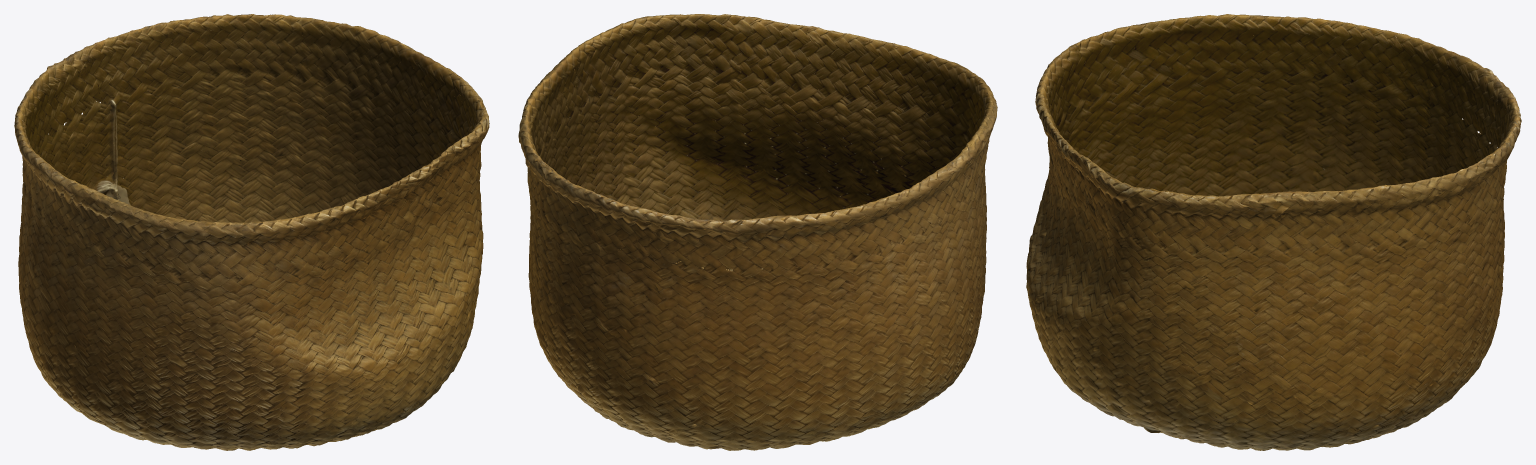
File: obj_basket_dc3d8c.glb
The picture shows the model from 3 angles, left to right: view 1: azimuth 30°, elevation 25°; view 2: azimuth 150°, elevation 25°; view 3: azimuth 270°, elevation 25°; orthographic projection. The views are drawn at different scales.
Visible parts, largest first — view 1: obj_basket_dc3d8c; view 2: obj_basket_dc3d8c; view 3: obj_basket_dc3d8c.
Boxes of the visible parts, x1=… form: obj_basket_dc3d8c: x1=14, y1=14, x2=489, y2=450; obj_basket_dc3d8c: x1=518, y1=14, x2=997, y2=450; obj_basket_dc3d8c: x1=1026, y1=14, x2=1521, y2=450.
Bounding box in the file's own units: 0.3797 × 0.2558 × 0.4001.
Materials: 4 (4 with a texture image).
